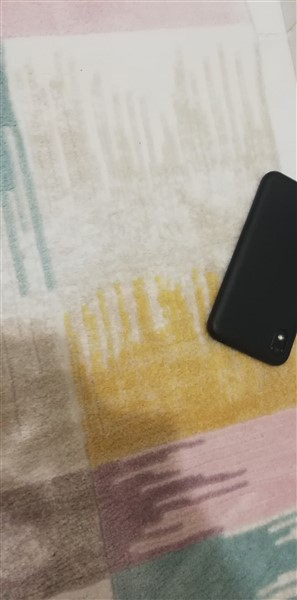telefon: (202, 168, 297, 375)
